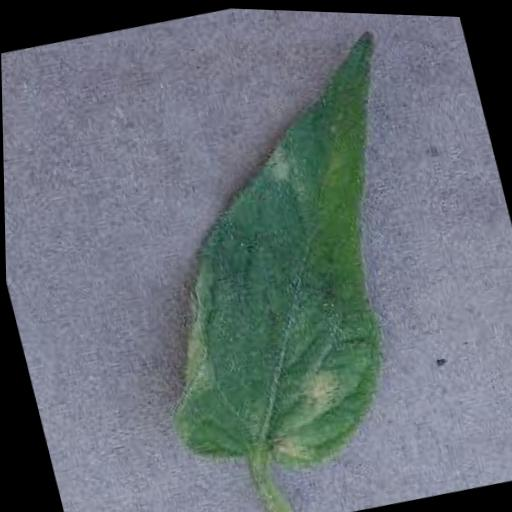Leaf Mold: (95, 17, 470, 489)
